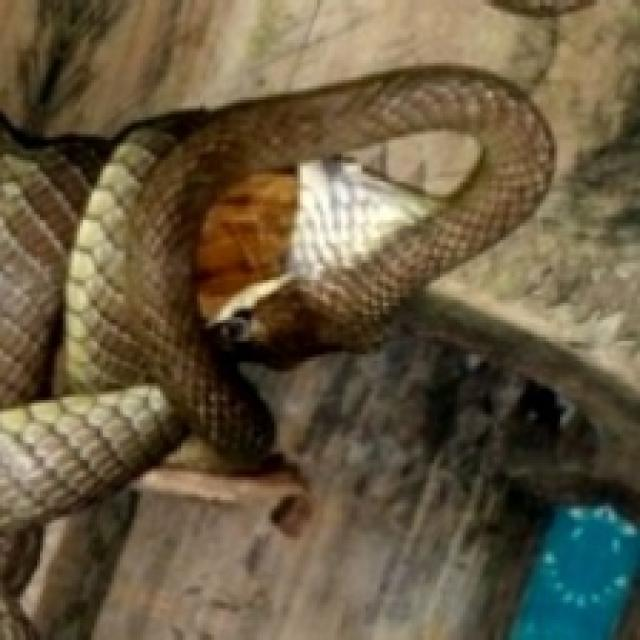paradise tree snake: (0, 66, 551, 557)
